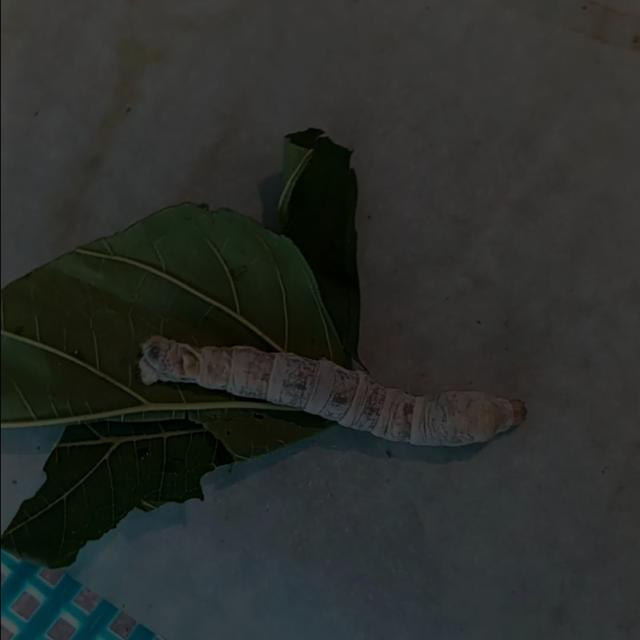Grasserie: (129, 311, 536, 476)
